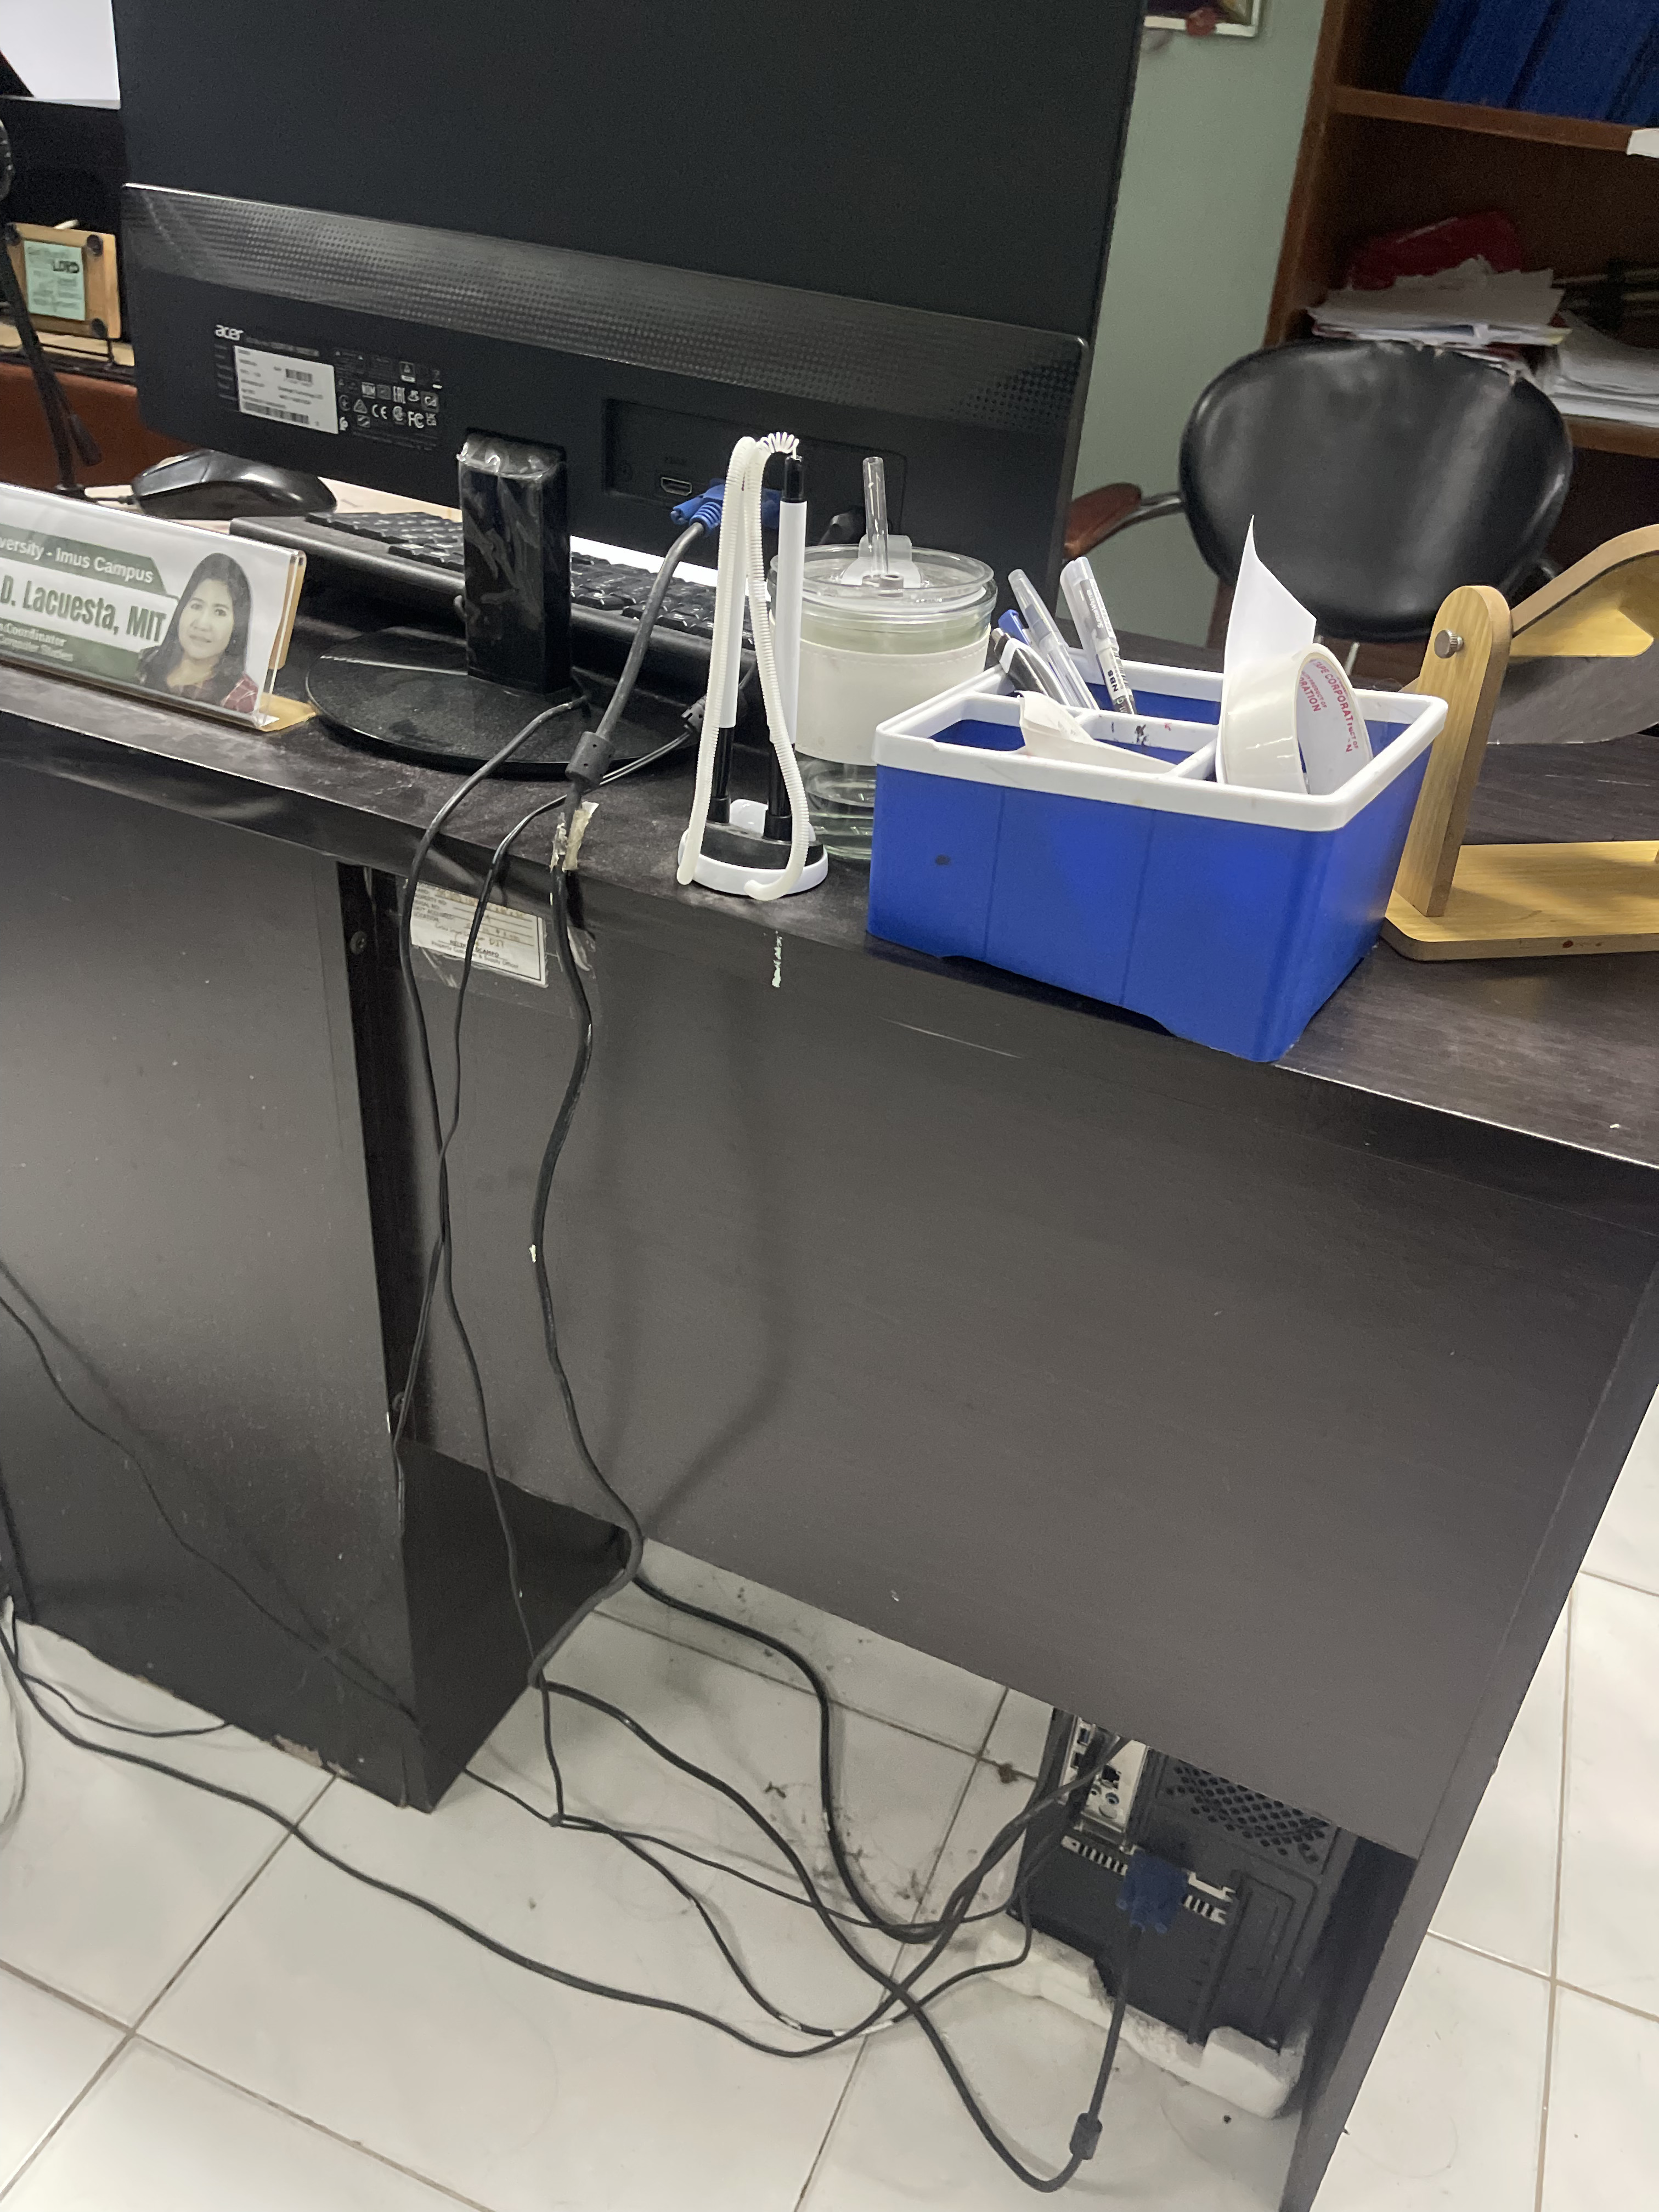table1: (0, 658, 1659, 2212)
